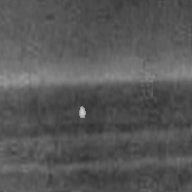Target: (78, 104, 86, 118)
